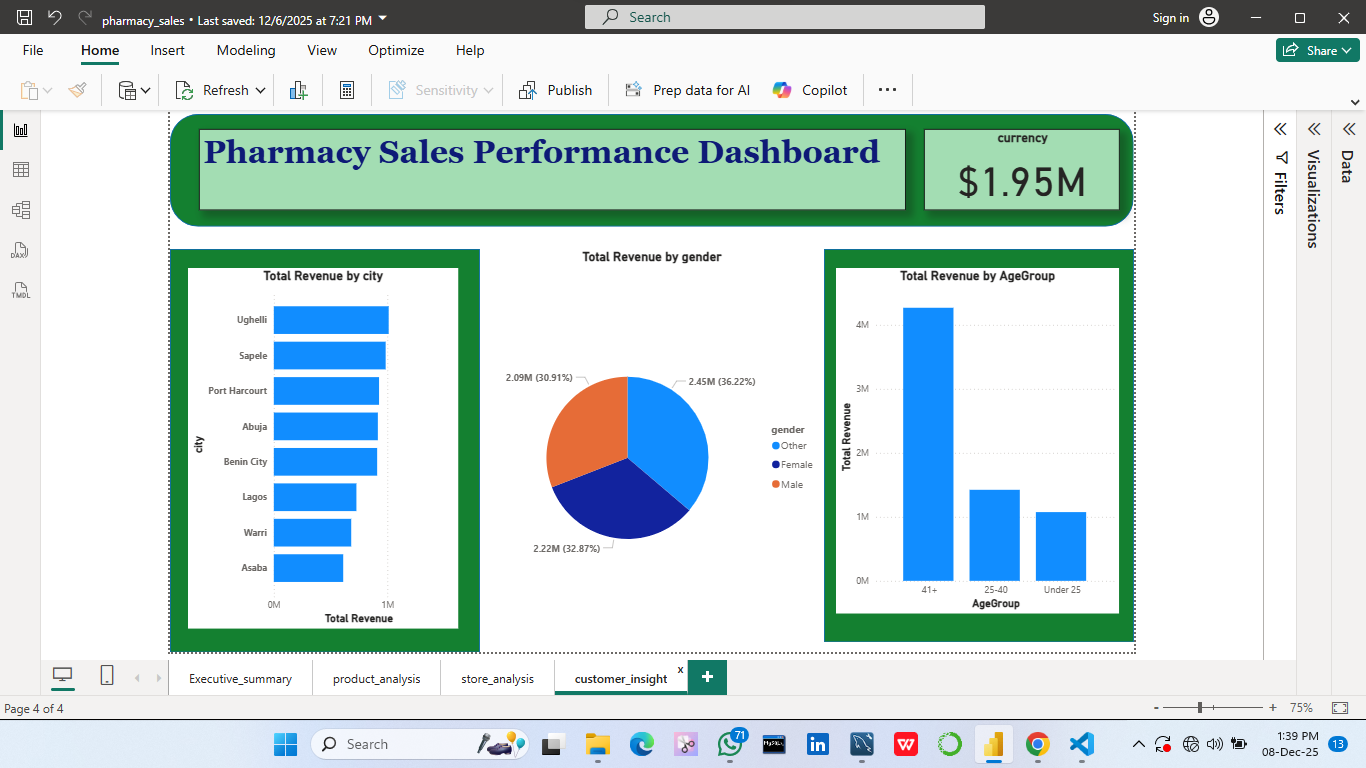

The page's visual inventory and layout, read from the dashboard file:
{"tool":"powerbi","page":{"name":"customer_insight","canvas":[1280,720],"ordinal":3},"visuals":[{"type":"shape","box":[0,184.8,411.5,535.9],"z":0},{"type":"shape","box":[868.5,184.8,411.5,522.4],"z":1000},{"type":"shape","box":[0,5,1280,149.5],"z":2000},{"type":"pieChart","fields":{"Category":["pharmacy_sales customers.gender"],"Y":["pharmacy_sales sales.Total Revenue"]},"box":[411.5,184.8,456.9,535.9],"z":3000},{"type":"clusteredBarChart","fields":{"Category":["pharmacy_sales customers.city"],"Y":["pharmacy_sales sales.Total Revenue"]},"box":[23.5,210,359.5,478.7],"z":4000},{"type":"card","title":"currency","fields":{"Values":["pharmacy_sales customers.Loyalty Member Spend"]},"box":[1001.2,25.2,260.4,107.5],"z":5000},{"type":"clusteredColumnChart","fields":{"Category":["pharmacy_sales customers.AgeGroup"],"Y":["pharmacy_sales sales.Total Revenue"]},"box":[885.2,210,376.3,458.6],"z":6000},{"type":"textbox","box":[38.6,25.2,939,107.5],"z":7000}]}

Visuals, with their boxes on the page's 1280x720 design canvas (x1, y1, x2, y2). These are canvas units, not pixel positions in the 1366x768 screenshot, which may show the page scaled, cropped or inside an application window:
shape: x1=0 y1=185 x2=412 y2=721
shape: x1=868 y1=185 x2=1280 y2=707
shape: x1=0 y1=5 x2=1280 y2=154
pieChart - pharmacy_sales customers.gender x pharmacy_sales sales.Total Revenue: x1=412 y1=185 x2=868 y2=721
clusteredBarChart - pharmacy_sales customers.city x pharmacy_sales sales.Total Revenue: x1=24 y1=210 x2=383 y2=689
"currency" card: x1=1001 y1=25 x2=1262 y2=133
clusteredColumnChart - pharmacy_sales customers.AgeGroup x pharmacy_sales sales.Total Revenue: x1=885 y1=210 x2=1262 y2=669
textbox: x1=39 y1=25 x2=978 y2=133
